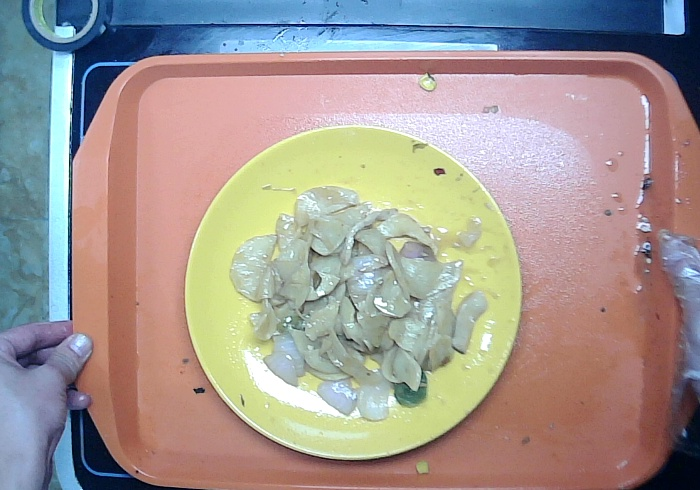HZYJPL-Huang_Se_Yuan_Pan: (184, 119, 522, 460)
